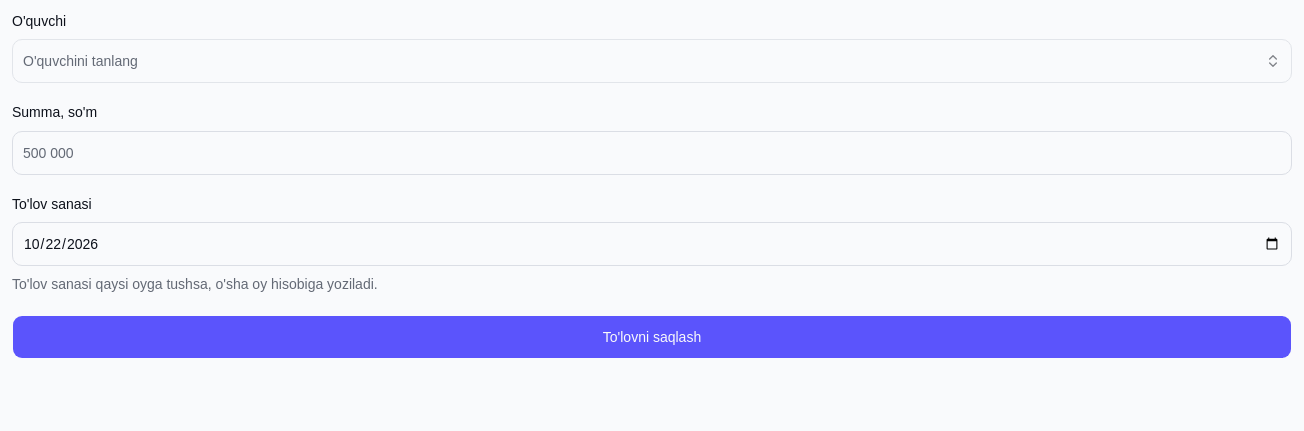
Test: PaymentForm › bo'sh formani yubormaydi va xatolarni ko'rsatadi
The width and height of the screenshot is (1304, 431).
What coordinates should you click on to do the following:
click the button "To'lovni saqlash"
I would click on:
 (652, 337)
Its box is [12, 315, 1292, 359].
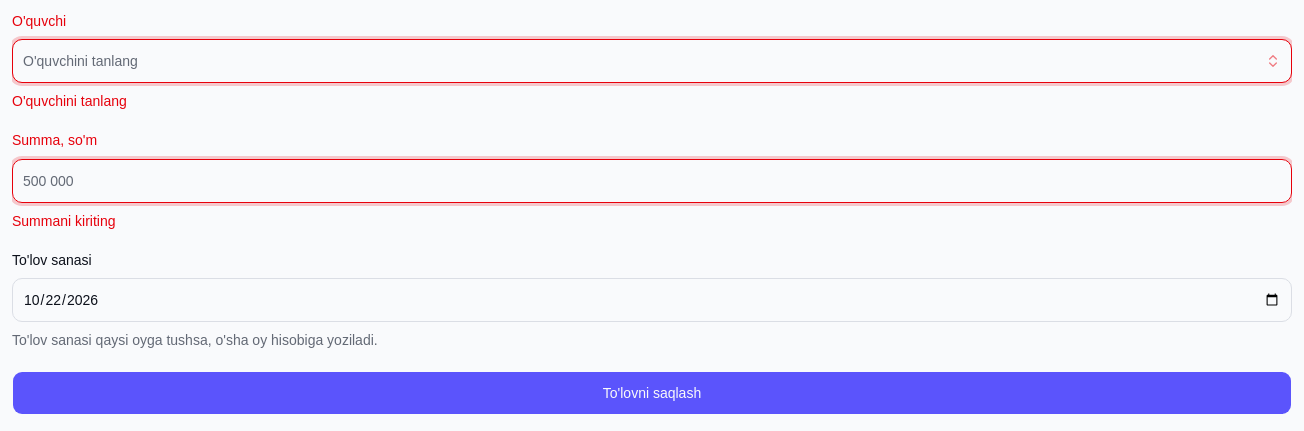
Expected: the text "O'quvchini tanlang" is shown 2 times, [23, 51, 138, 71]; [12, 93, 127, 109]
Result: the text "Summani kiriting" is shown at [12, 212, 116, 228]
